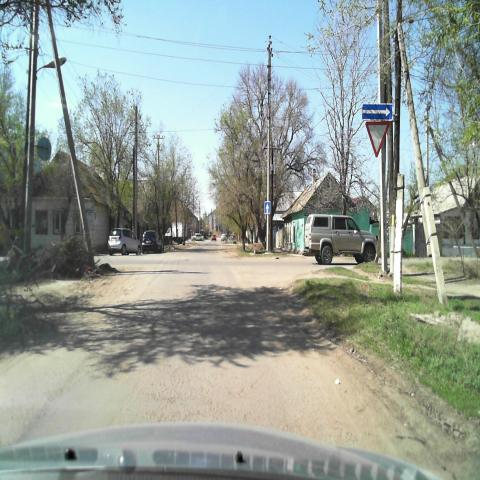5_7_1: (362, 103, 393, 120)
